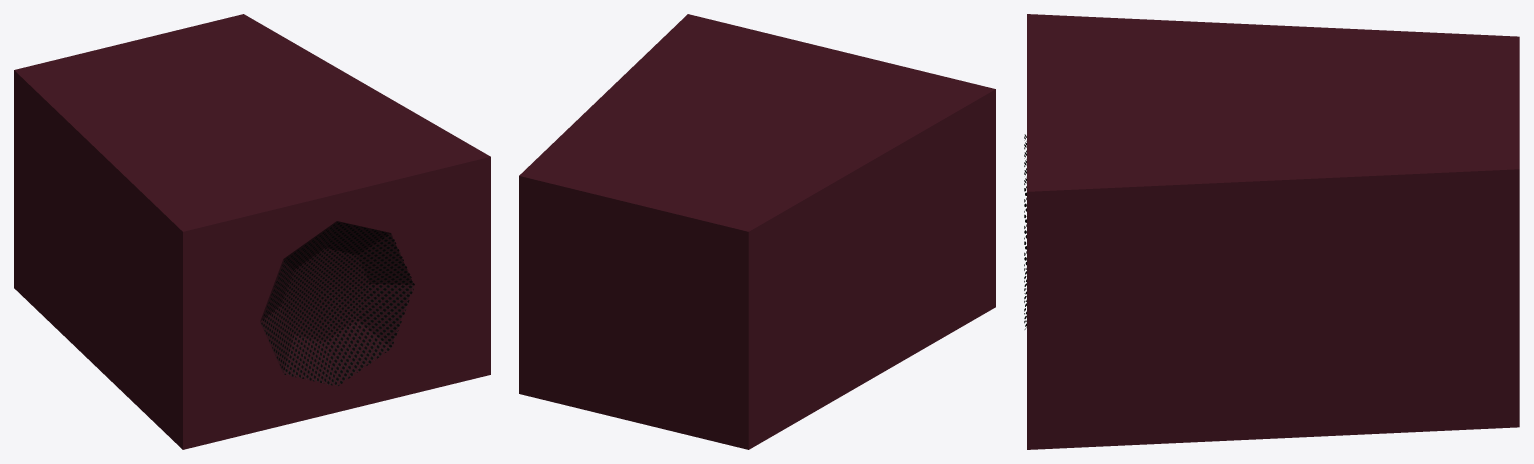
The model's file is Itr_Obj_Speaker3_Top_04.FBX.
The picture shows the model from 3 angles, left to right: view 1: azimuth 30°, elevation 25°; view 2: azimuth 150°, elevation 25°; view 3: azimuth 270°, elevation 25°; orthographic projection. The views are drawn at different scales.
Parts seen in each view (by area): view 1: Itr_Obj_Speaker3_Top_04; view 2: Itr_Obj_Speaker3_Top_04; view 3: Itr_Obj_Speaker3_Top_04.
Boxes of the visible parts, x1,y1,x2,y2 form: Itr_Obj_Speaker3_Top_04: (14,14,490,449); Itr_Obj_Speaker3_Top_04: (519,14,995,449); Itr_Obj_Speaker3_Top_04: (1024,14,1519,449).
Bounding box in the file's own units: 9.88 × 6.69 × 11.62.
